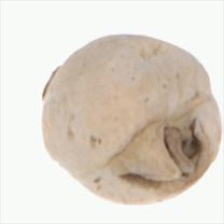L3: (127, 123, 209, 184)
L4: (41, 33, 222, 206)
